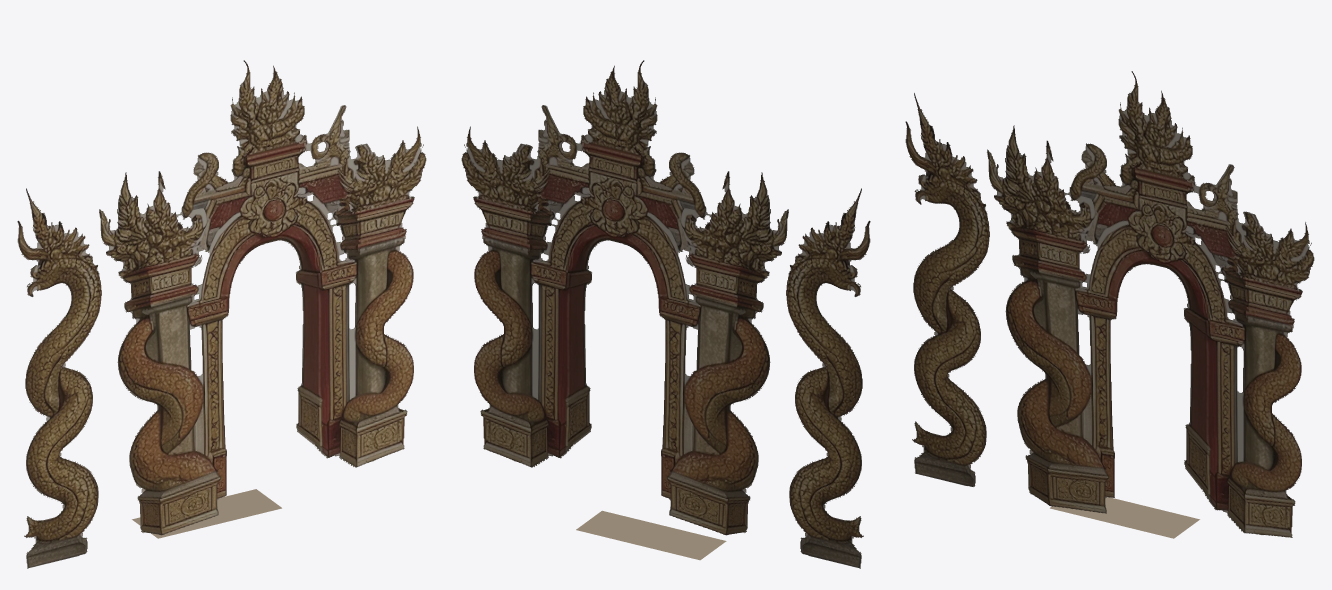
File: toad-standee-gilded-gate-night.glb
3 renders of one model, left to right at view 1: azimuth 30°, elevation 25°; view 2: azimuth 150°, elevation 25°; view 3: azimuth 330°, elevation 25°, orthographic.
Visible parts, largest first — view 1: gilded-gate; view 2: gilded-gate; view 3: gilded-gate.
Boxes of the visible parts, x1=… form: gilded-gate: x1=17, y1=60, x2=426, y2=568; gilded-gate: x1=461, y1=60, x2=870, y2=568; gilded-gate: x1=905, y1=71, x2=1314, y2=538.
Size of the model in its own units: 0.3 by 0.3178 by 0.035.
1 material, 1 textured.
